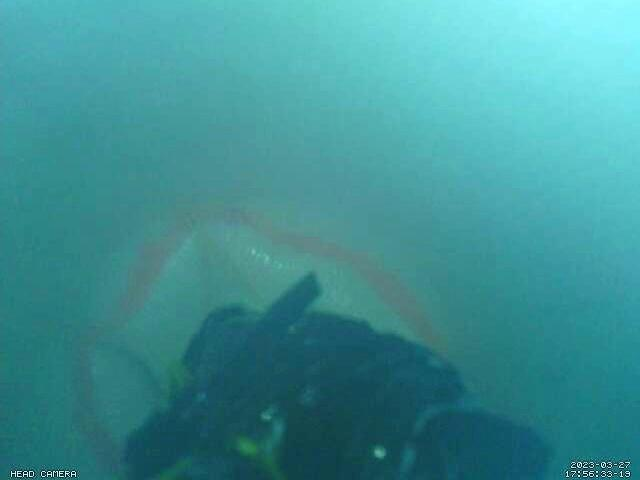head: (70, 204, 448, 480)
